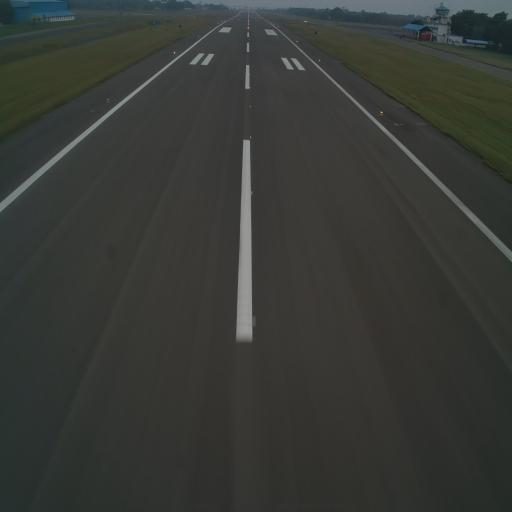on: (250, 312, 258, 330), (379, 106, 384, 119), (171, 48, 177, 56), (248, 102, 253, 111), (249, 188, 254, 196), (318, 56, 323, 64), (106, 95, 110, 104), (249, 133, 253, 141), (248, 83, 252, 90)
